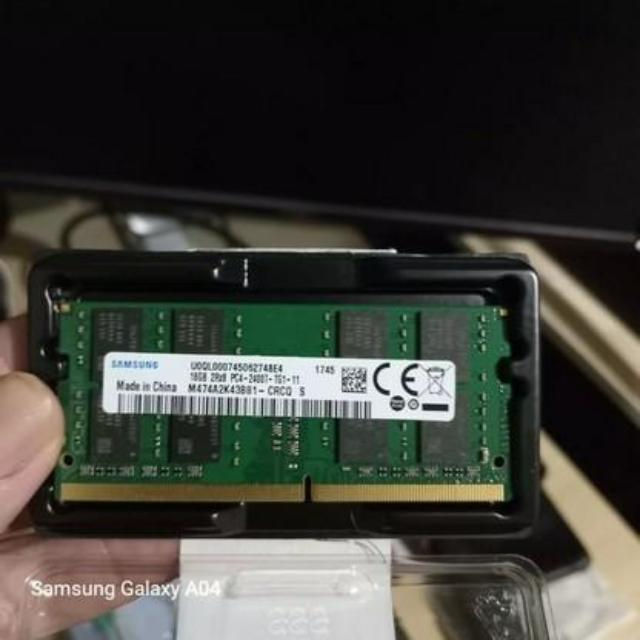RAM: (46, 296, 522, 513)
